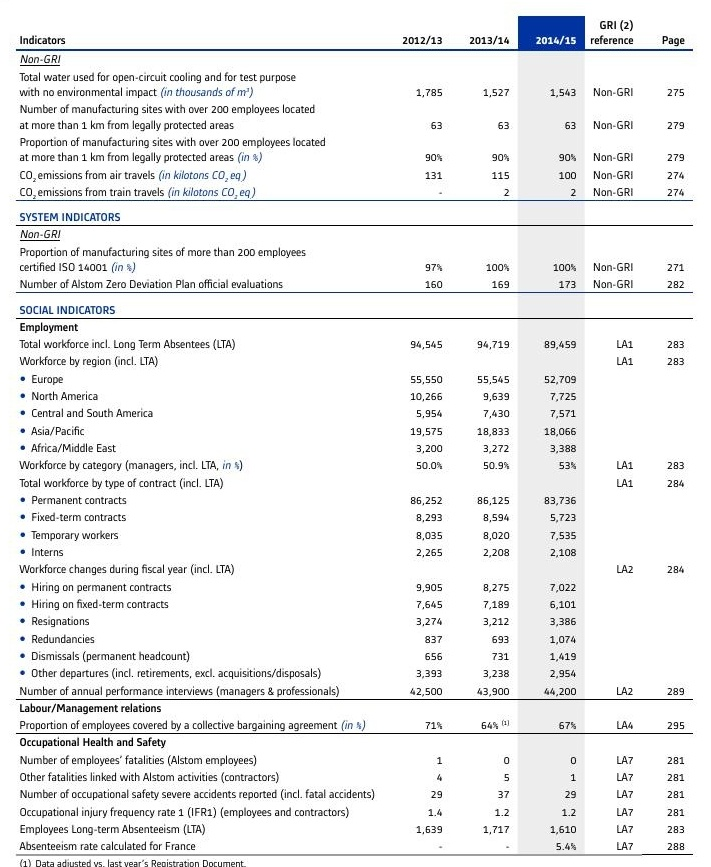table: (0, 0, 711, 867)
